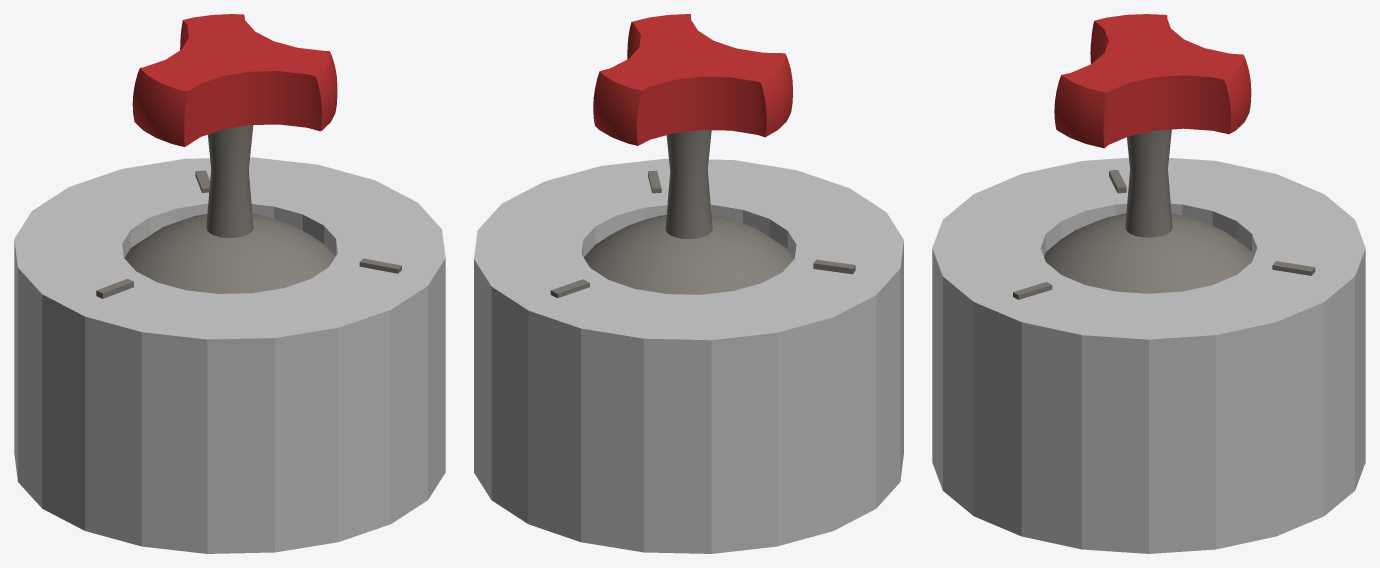
File: 3-way Switch.fbx
3 renders of one model, left to right at view 1: azimuth 30°, elevation 25°; view 2: azimuth 150°, elevation 25°; view 3: azimuth 270°, elevation 25°, orthographic.
Parts seen in each view (by area): view 1: pCube3, pSphere4, pSphere6, pCylinder1; view 2: pCube3, pSphere4, pSphere6, pCylinder1; view 3: pCube3, pSphere4, pSphere6, pCylinder1.
Part boxes in pixels (x1,y1,x2,y2): pCube3: [14, 157, 445, 553]; pSphere4: [132, 14, 337, 146]; pSphere6: [124, 214, 335, 293]; pCylinder1: [206, 125, 253, 237]; pCube3: [474, 158, 903, 553]; pSphere4: [593, 14, 792, 145]; pSphere6: [584, 215, 793, 294]; pCylinder1: [665, 130, 712, 238]; pCube3: [932, 157, 1365, 553]; pSphere4: [1054, 14, 1251, 148]; pSphere6: [1044, 213, 1253, 293]; pCylinder1: [1125, 129, 1172, 237].
Bounding box in the file's own units: 13.87 × 14.4 × 13.87.
